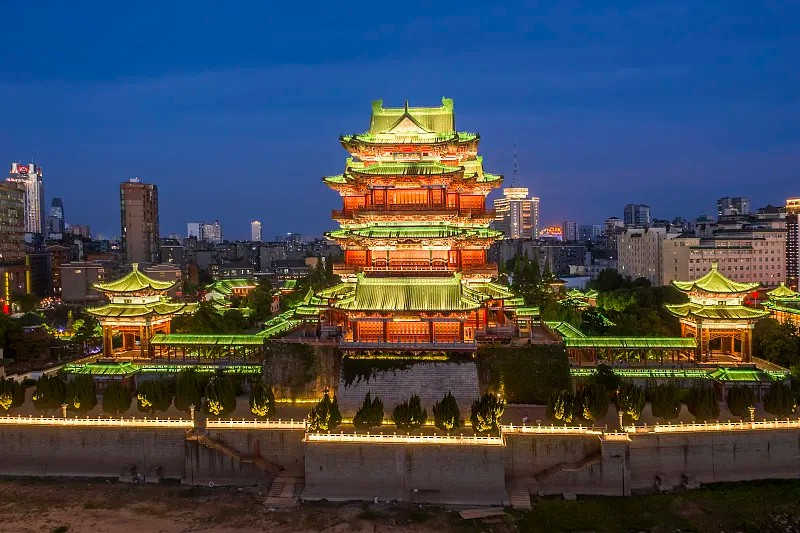Teng: (288, 97, 541, 349)
